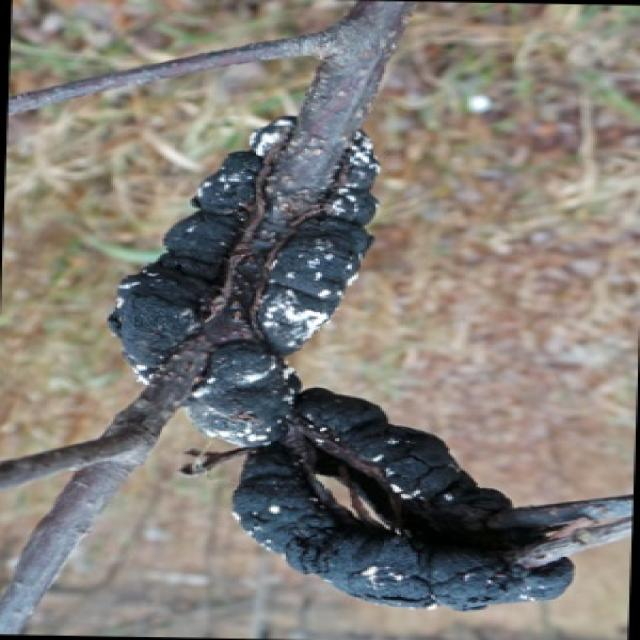Black_knot: (86, 127, 376, 397), (277, 385, 514, 546)
